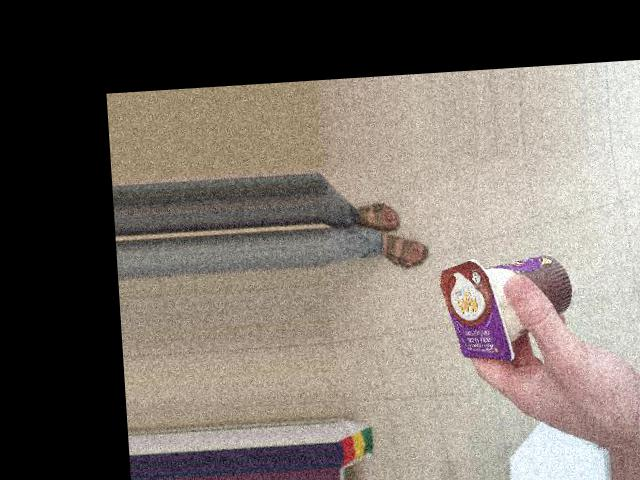milky: (425, 213, 515, 356)
